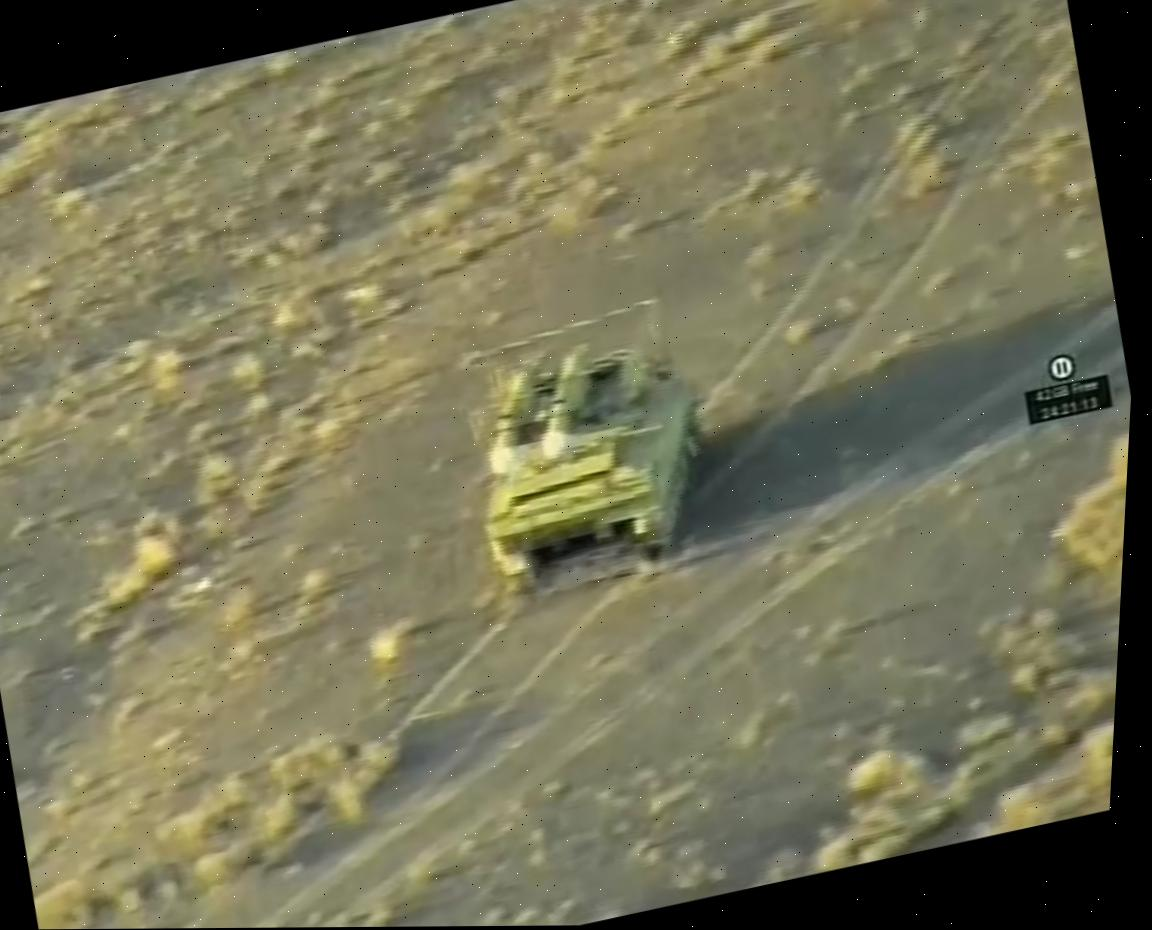armored_car: (439, 308, 744, 604)
